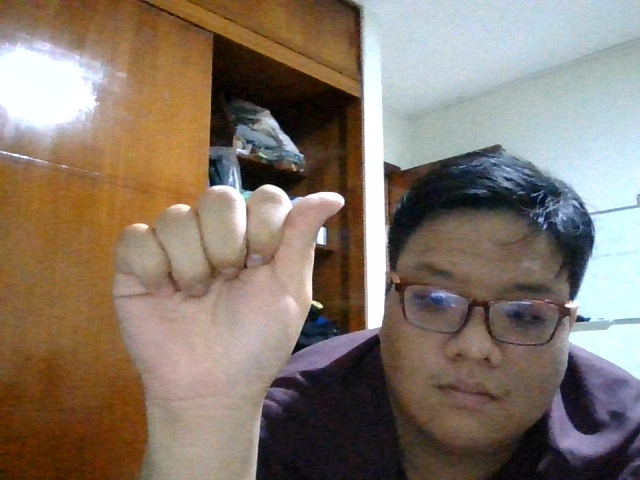a: (105, 181, 350, 402)
